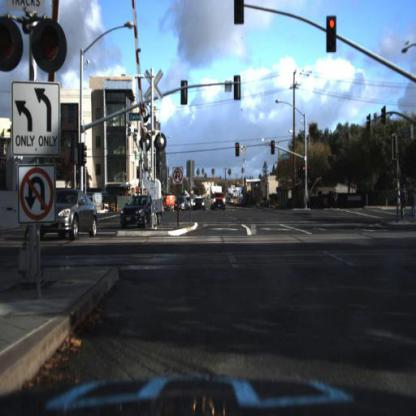biker: (398, 181, 408, 223)
car: (45, 183, 98, 244), (36, 191, 99, 242), (122, 197, 165, 232), (118, 196, 160, 228), (61, 191, 88, 216), (212, 192, 228, 213), (174, 196, 186, 212)
pedestrian: (395, 172, 407, 236), (330, 180, 341, 218), (333, 186, 341, 211), (411, 184, 416, 219)
trafficLight: (233, 1, 245, 25), (236, 140, 241, 161)
trafficLight-Red: (327, 15, 337, 51), (302, 159, 308, 177), (271, 139, 277, 155), (302, 164, 307, 175)
